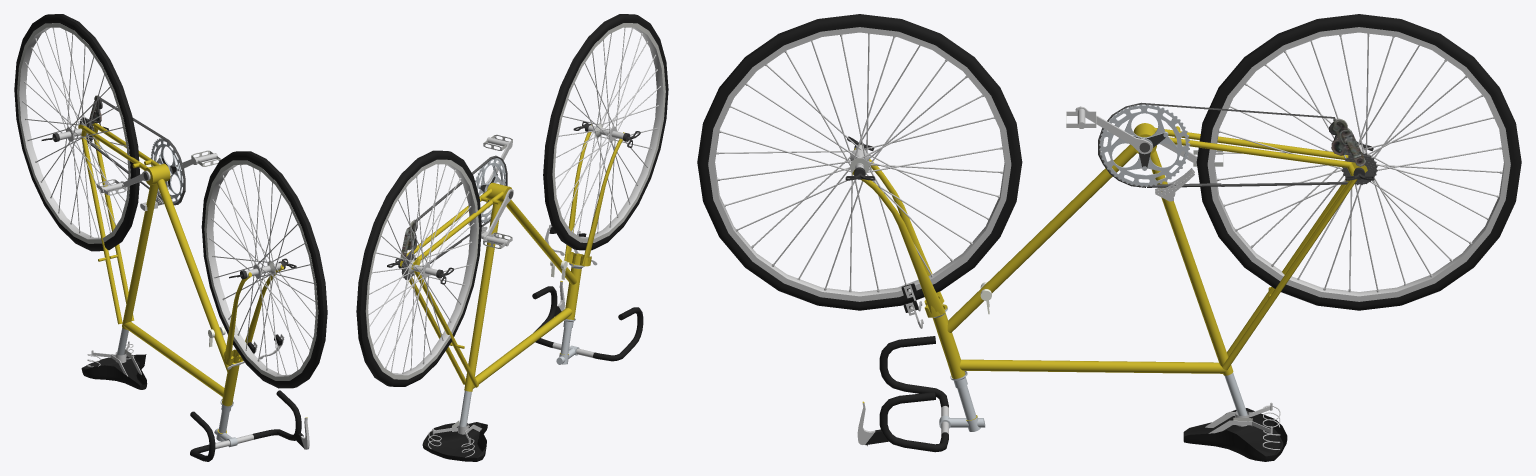
File: Bicicleta.fbx
3 renders of one model, left to right at view 1: azimuth 30°, elevation 25°; view 2: azimuth 150°, elevation 25°; view 3: azimuth 270°, elevation 25°, orthographic. The views are drawn at different scales.
Parts seen in each view (by area): view 1: group_.121, Component#25 2, Component#30, Component#30 2, Component#25 2.001, group_.119, Component#23.001, Component#31, Component#23, Component#26, Bicicleta, Component#25 (+6 smaller); view 2: group_.121, Component#30, Component#25 2.001, Component#25 2, Component#30 2, group_.119, group_ 3.029, Component#23.001, Component#23, Component#31, Component#26, Component#25.001 (+7 smaller); view 3: group_.119, Component#25, Component#25.001, Component#30, Component#30 2, Component#26, Component#23, Component#31, Component#23.001, group_.121, Bicicleta, group_.116 (+3 smaller).
Part boxes in pixels (bbox=[...]): group_.121: bbox=[117, 179, 238, 461]; Component#25 2: bbox=[201, 151, 325, 388]; Component#30: bbox=[204, 160, 318, 380]; Component#30 2: bbox=[17, 23, 130, 243]; Component#25 2.001: bbox=[14, 14, 138, 251]; group_.119: bbox=[122, 179, 301, 445]; Component#23.001: bbox=[78, 124, 147, 324]; Component#31: bbox=[81, 341, 147, 389]; Component#23: bbox=[92, 122, 159, 321]; Component#26: bbox=[150, 138, 184, 203]; Bicicleta: bbox=[79, 96, 185, 205]; Component#25: bbox=[235, 151, 327, 387]; group_.121: bbox=[461, 199, 643, 426]; Component#30: bbox=[552, 23, 665, 242]; Component#25 2.001: bbox=[358, 151, 481, 386]; Component#25 2: bbox=[545, 14, 668, 250]; Component#30 2: bbox=[365, 159, 479, 379]; group_.119: bbox=[459, 203, 579, 426]; group_ 3.029: bbox=[425, 423, 485, 457]; Component#23.001: bbox=[411, 191, 503, 387]; Component#23: bbox=[399, 188, 491, 384]; Component#31: bbox=[422, 420, 487, 461]; Component#26: bbox=[475, 158, 505, 222]; Component#25.001: bbox=[356, 150, 448, 386]; group_.119: bbox=[879, 144, 1247, 452]; Component#25: bbox=[697, 15, 1022, 310]; Component#25.001: bbox=[1196, 15, 1521, 310]; Component#30: bbox=[708, 27, 1011, 301]; Component#30 2: bbox=[1207, 27, 1510, 301]; Component#26: bbox=[1099, 104, 1190, 186]; Component#23: bbox=[1169, 135, 1367, 370]; Component#31: bbox=[1183, 402, 1287, 461]; Component#23.001: bbox=[1153, 126, 1348, 356]; group_.121: bbox=[879, 145, 1247, 425]; Bicicleta: bbox=[1098, 102, 1376, 187]; group_.116: bbox=[852, 170, 945, 314].
Bounding box in the file's own units: 6.87 × 23.11 × 40.23.
Materials: 9 (2 with a texture image).
